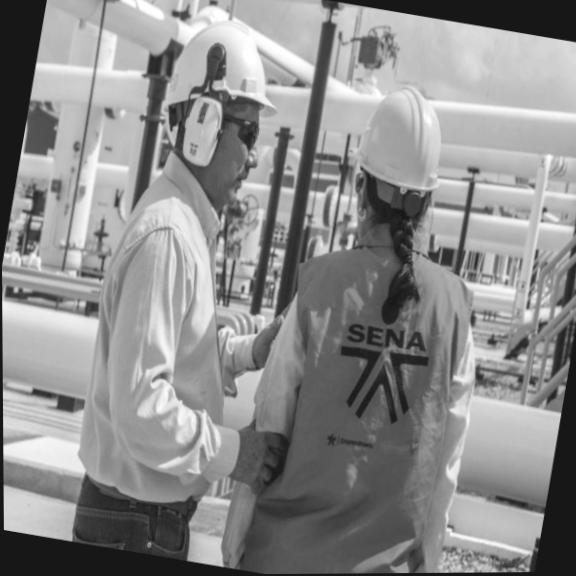no_safety_vest: (239, 228, 489, 574), (71, 172, 275, 516)
